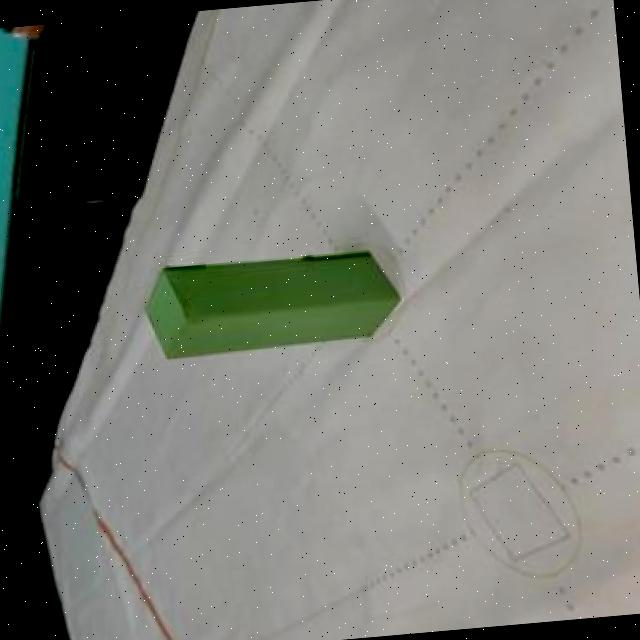greenbox: (142, 242, 400, 359)
